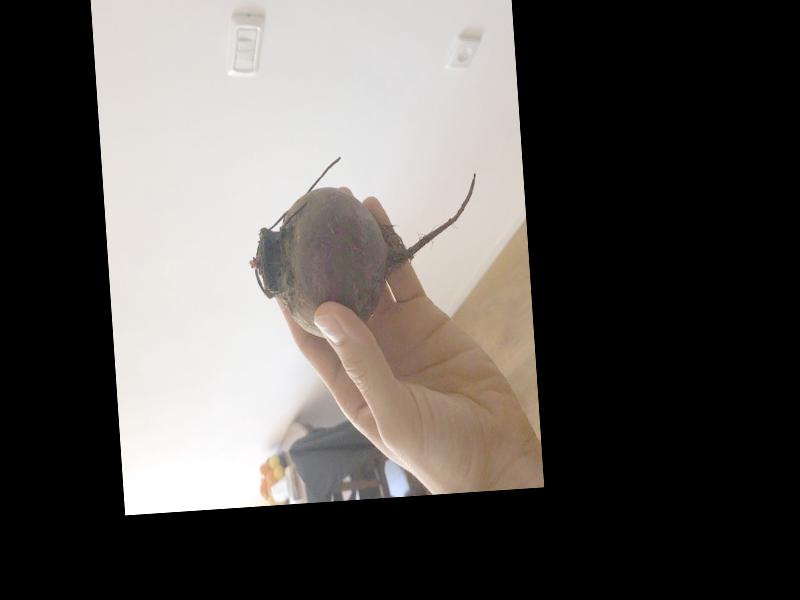Beet: (243, 146, 486, 343)
